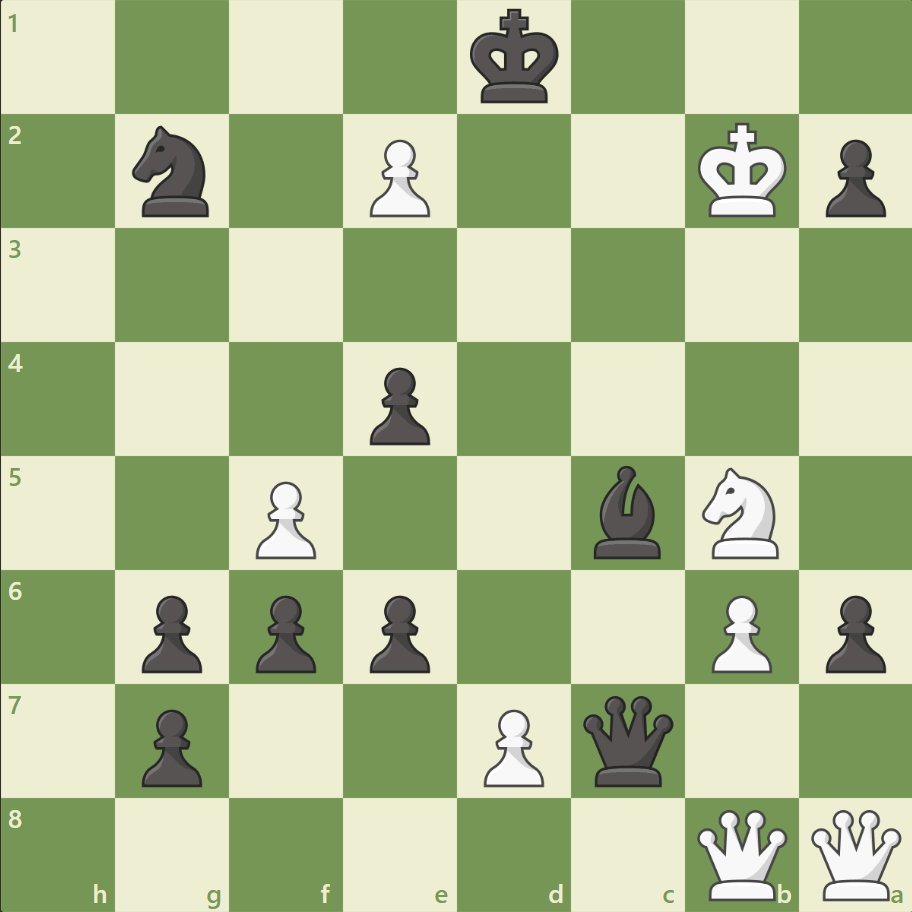K: (692, 117, 792, 225)
N: (692, 461, 789, 564)
P: (474, 700, 549, 791), (701, 586, 776, 677), (247, 473, 322, 564), (361, 132, 435, 223)
Q: (805, 804, 904, 903), (691, 804, 790, 903)
b: (585, 460, 669, 563)
k: (465, 4, 565, 112)
n: (124, 121, 222, 223)
p: (133, 700, 208, 791), (247, 586, 322, 677), (133, 586, 208, 677), (815, 586, 889, 677), (361, 586, 435, 677), (361, 359, 435, 450), (815, 132, 889, 223)
q: (578, 690, 677, 789)
